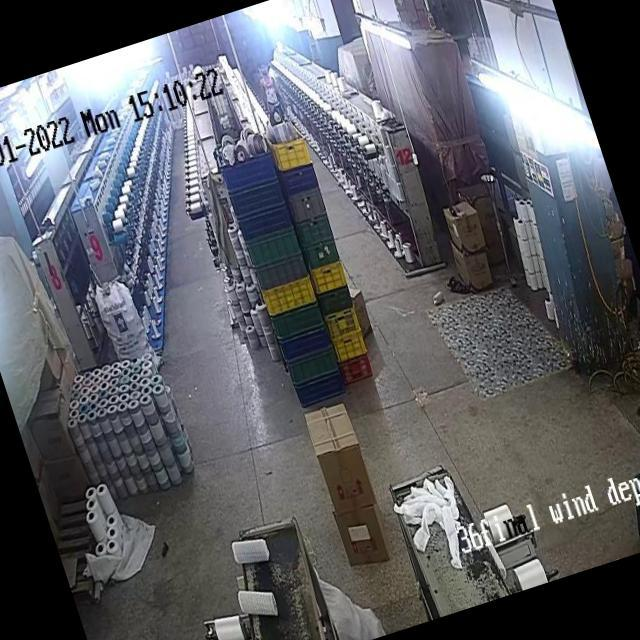person: (582, 195, 640, 416), (252, 55, 285, 114)
